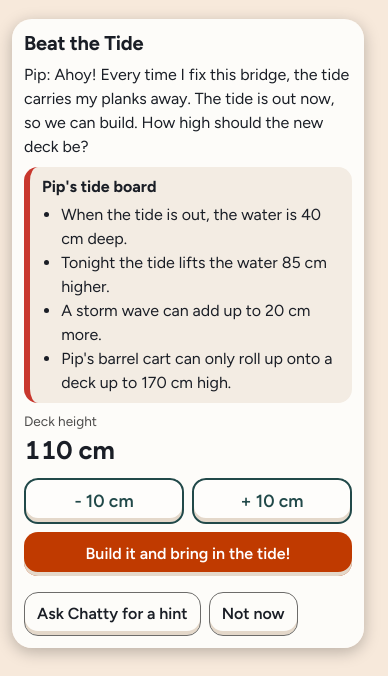
Test: TideTrialPanel › moves the deck in the scene as the child changes its height
Click the button with aria-label "Raise the deck".
click(272, 501)  # box [192,478,352,524]
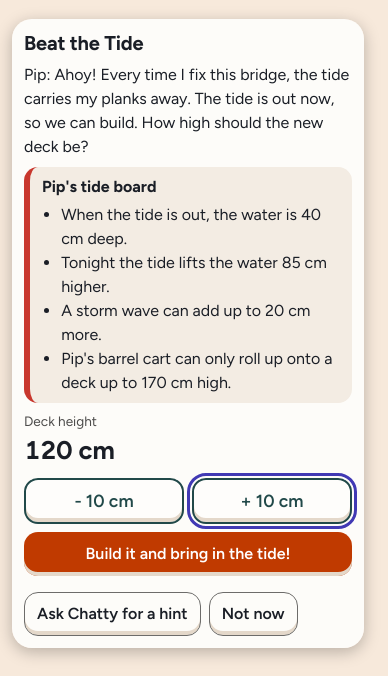
Click the button with aria-label "Raise the deck".
click(272, 501)  # box [192,478,352,524]
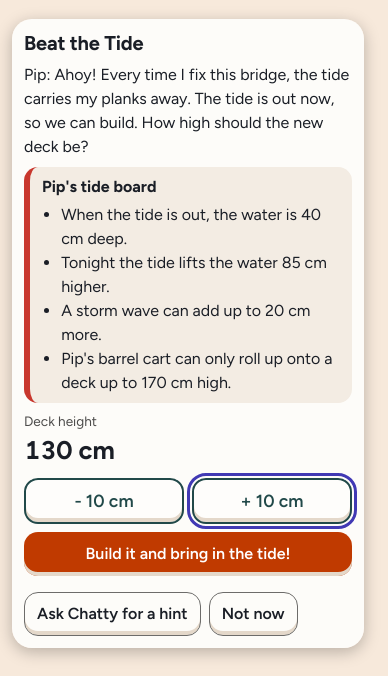
Click the button with aria-label "Lower the deck".
click(104, 501)  # box [24,478,184,524]
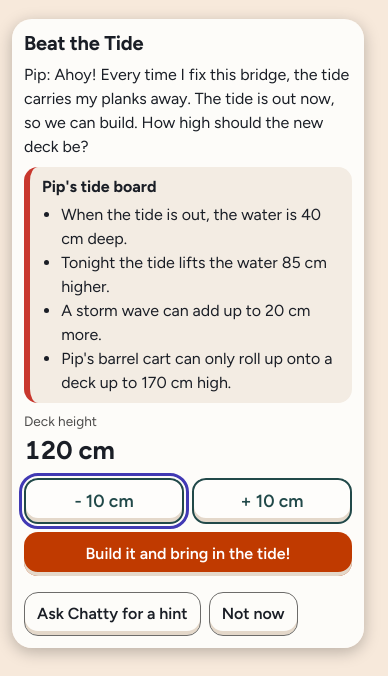
Result: the text with test id "deck-height" reads "120 cm" at [24,431,115,470]
